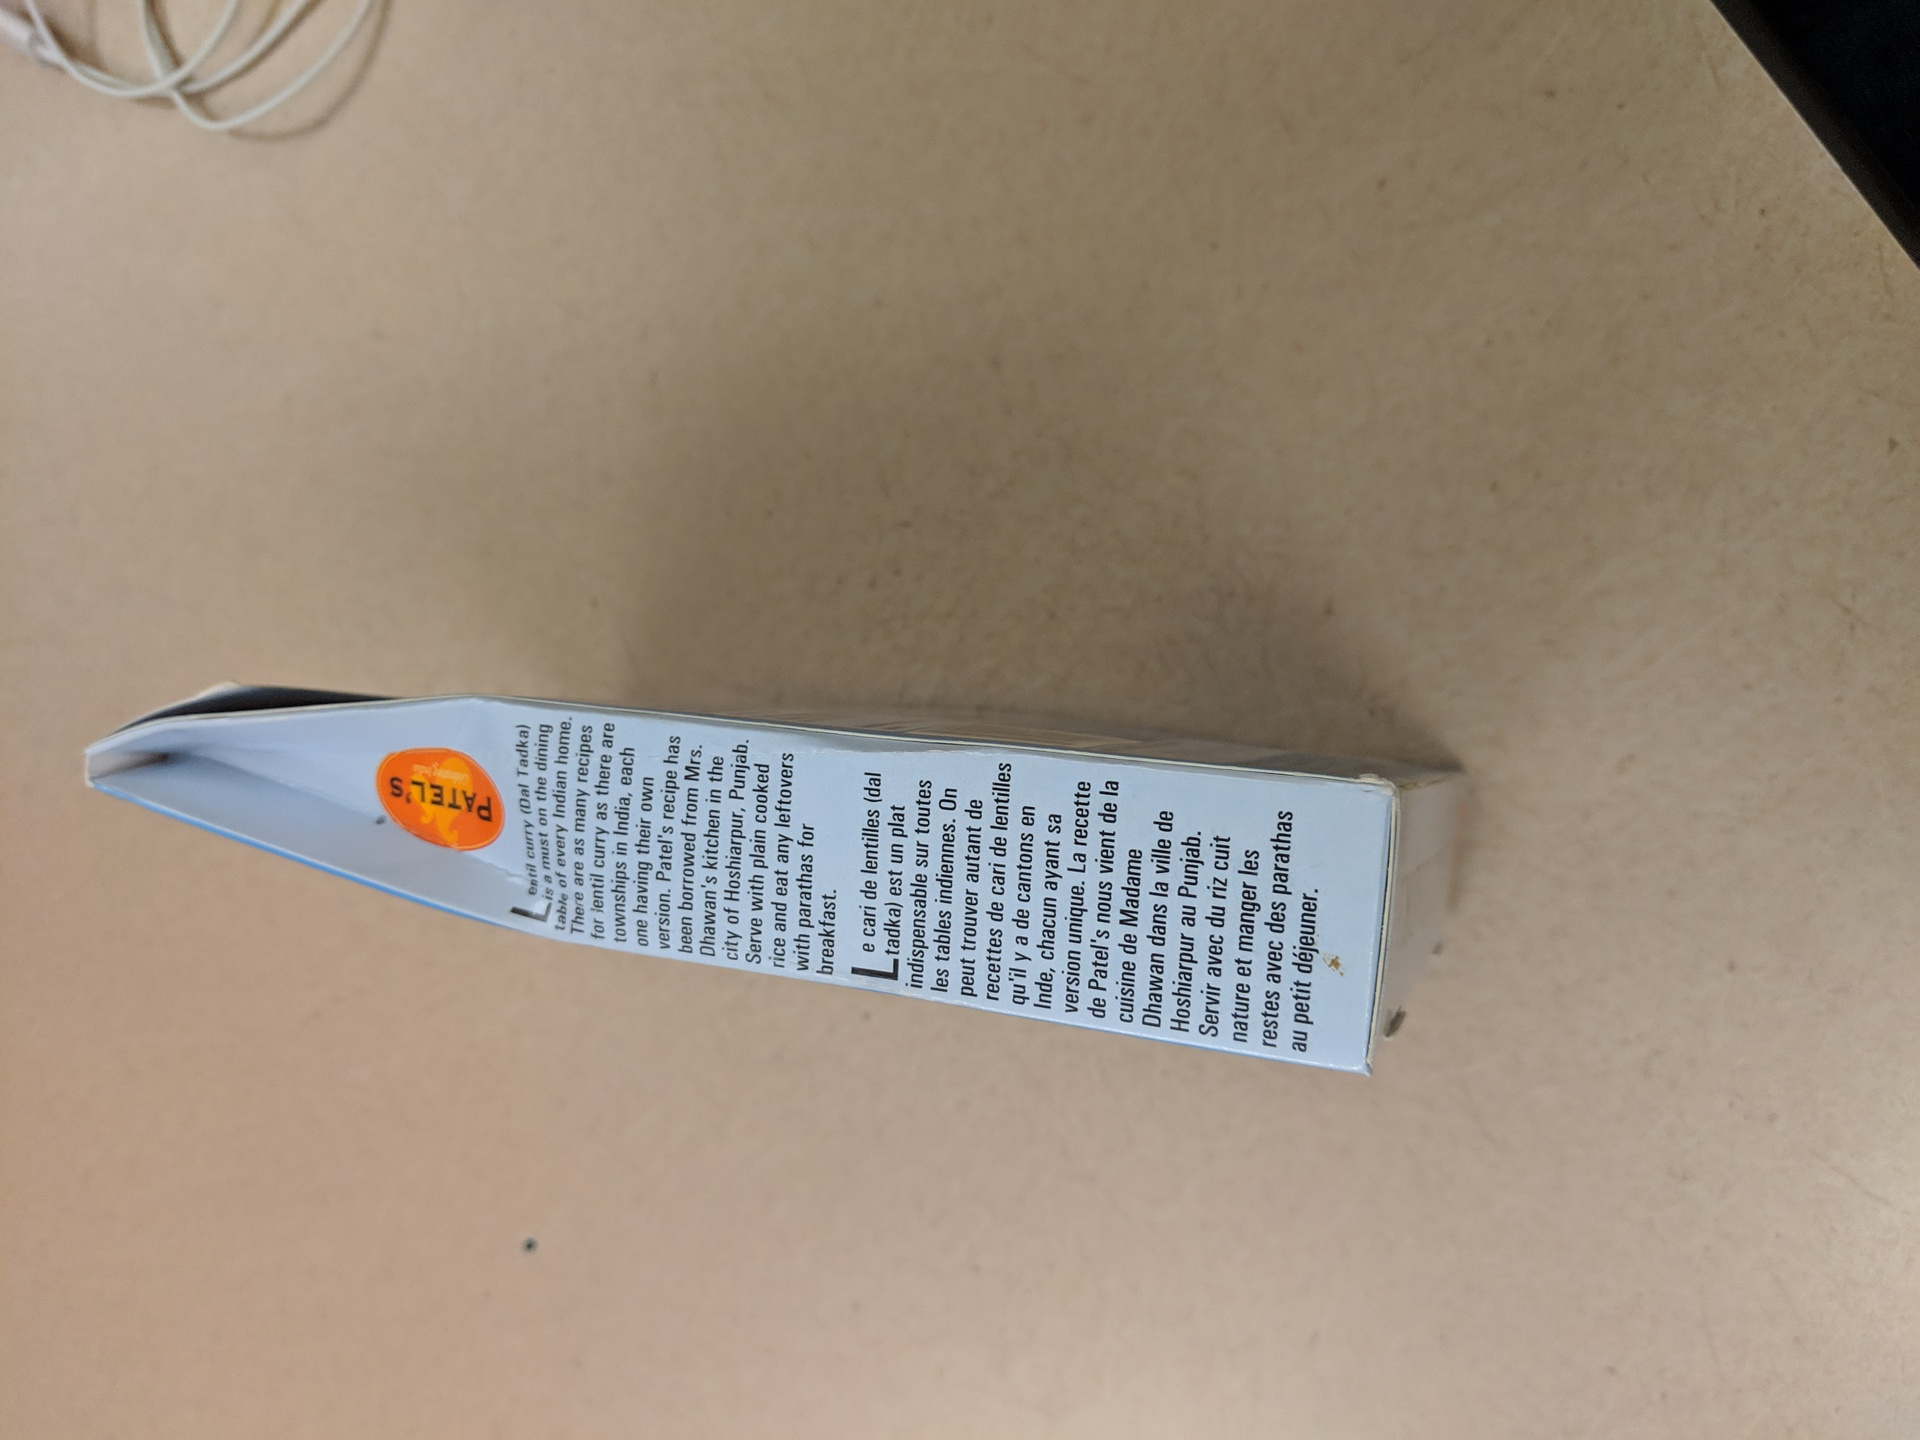patels_dal_tadka_lentil_curry: (51, 622, 1533, 1180)
